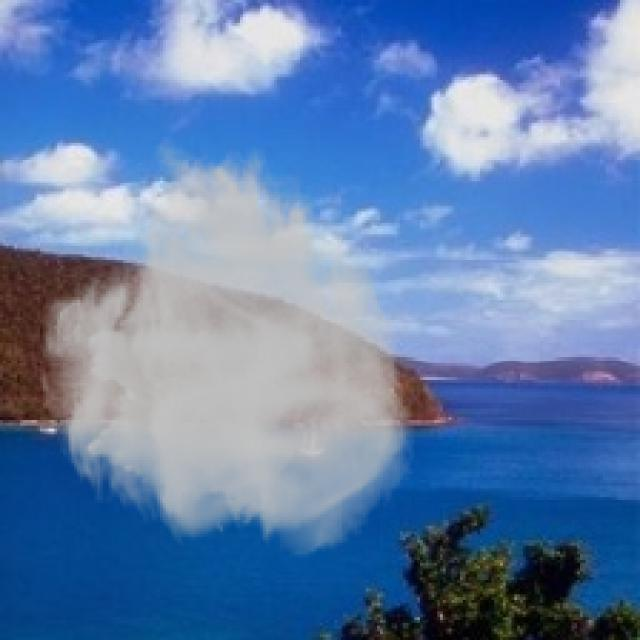Smoke: (37, 135, 417, 560)
